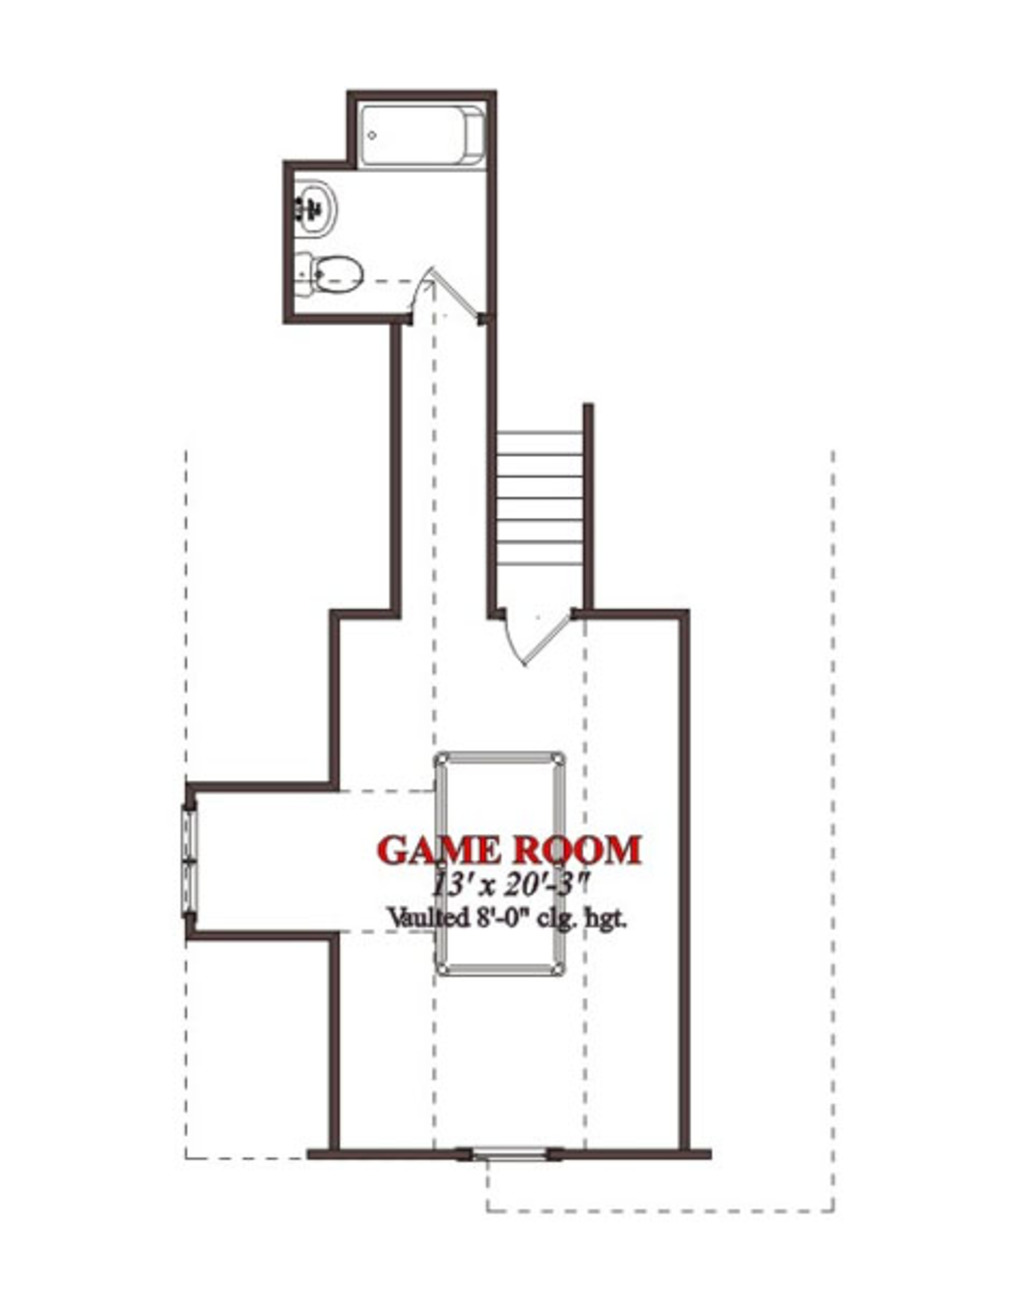door: (405, 244, 483, 338), (503, 600, 589, 686)
large_sink: (287, 244, 375, 322)
small_sink: (285, 166, 355, 244)
stairs: (487, 396, 593, 610)
tub: (355, 99, 499, 180)
window: (177, 806, 205, 932), (471, 1138, 559, 1164)
